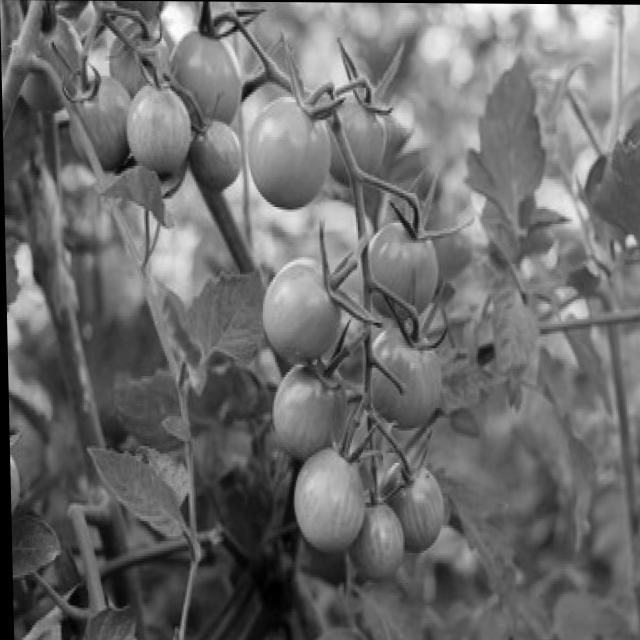sari: (173, 24, 256, 135)
yesil: (259, 360, 465, 589)
